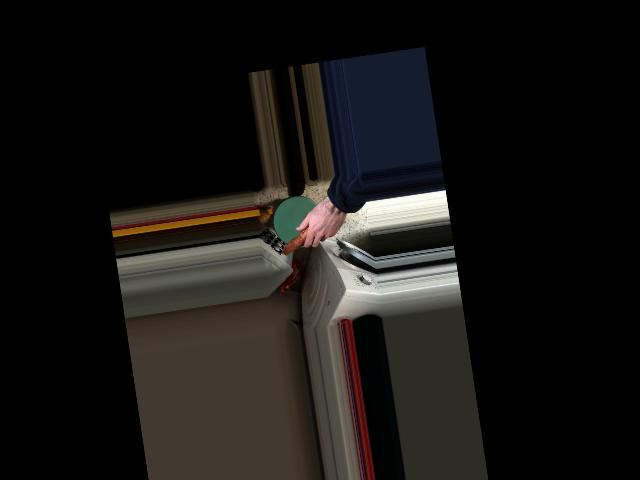sweet_potato: (279, 210, 335, 255)
